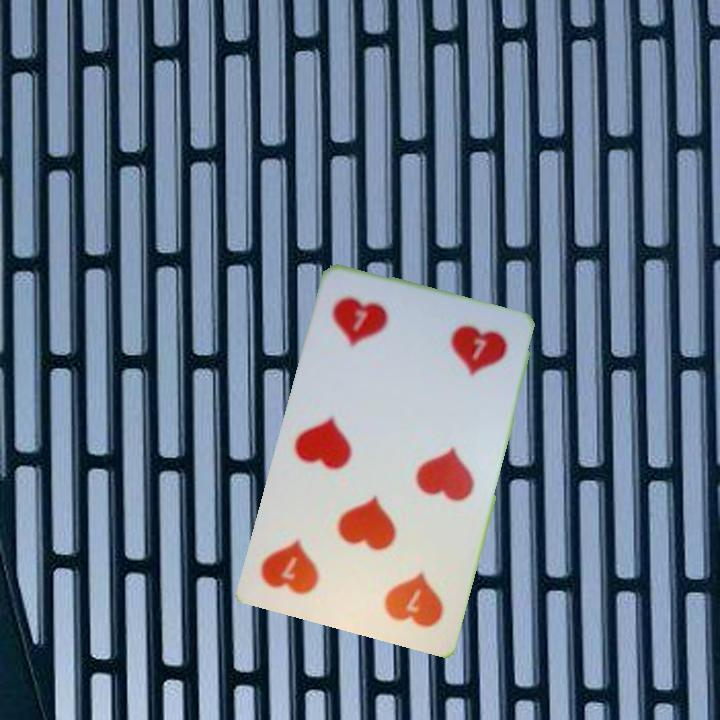h_7.png: (315, 279, 433, 387), (344, 532, 462, 639)
